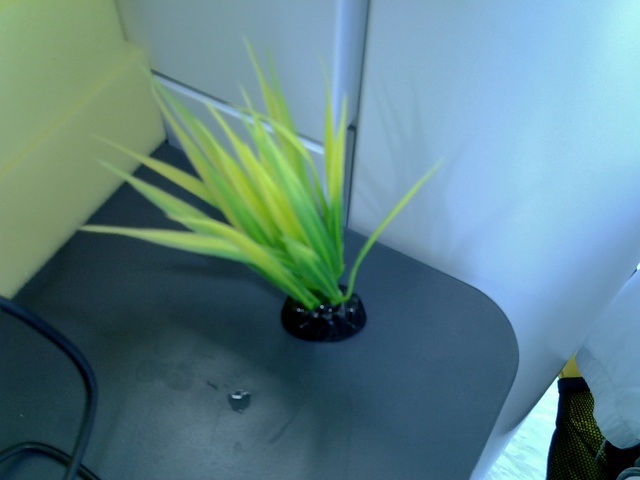해바라기새싹: (131, 84, 416, 335)
